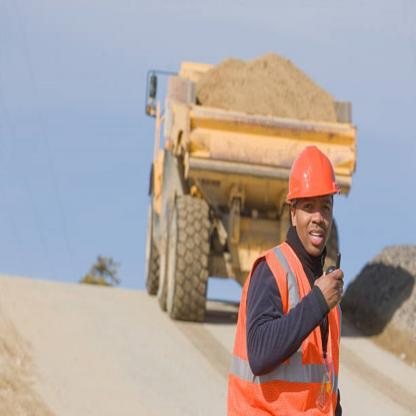dump_truck: (142, 43, 361, 321)
person: (226, 108, 366, 416)
